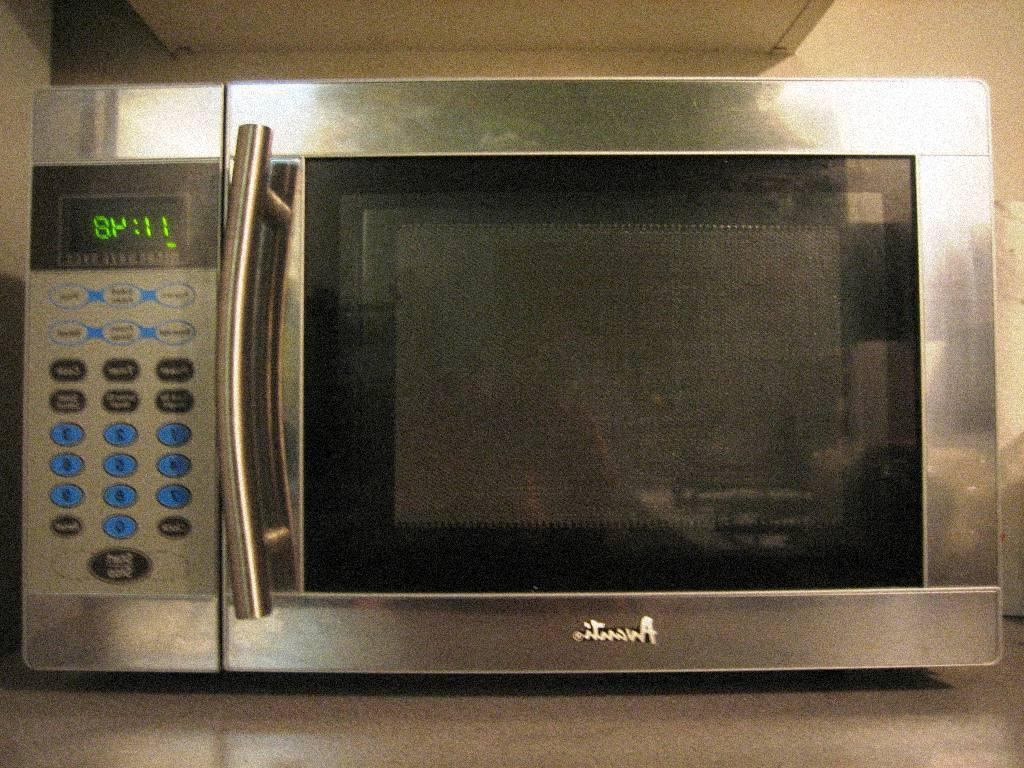Electrodomestico: (15, 86, 977, 674)
